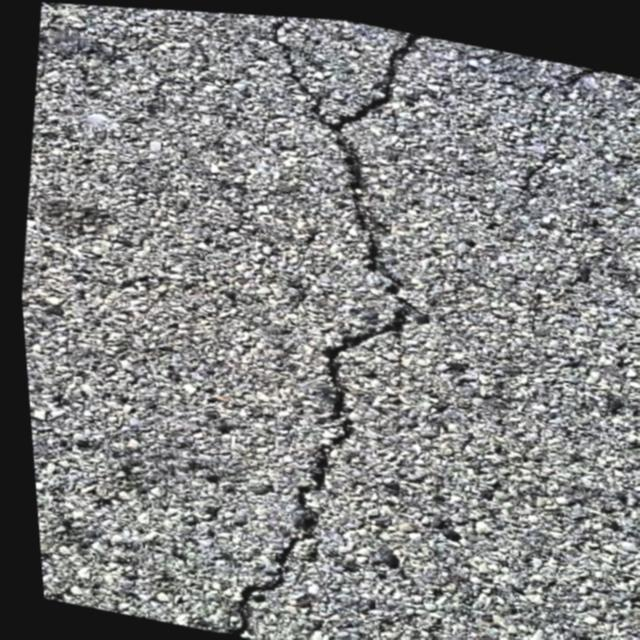cracks: (202, 16, 466, 640)
